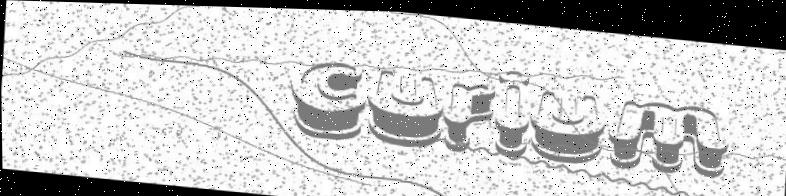c: (289, 56, 369, 143)
i: (490, 64, 533, 156)
m: (604, 92, 732, 175)
r: (441, 77, 496, 154)
u: (362, 65, 445, 148), (527, 85, 608, 164)
